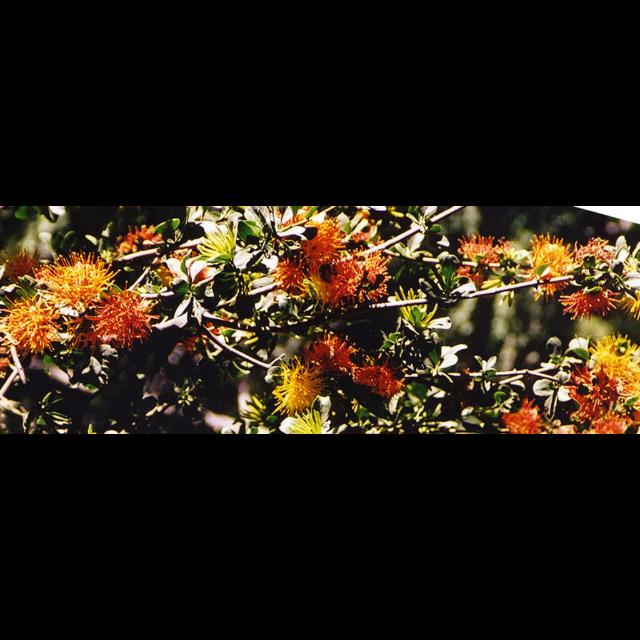Flower: (1, 206, 640, 434), (77, 278, 149, 344)
